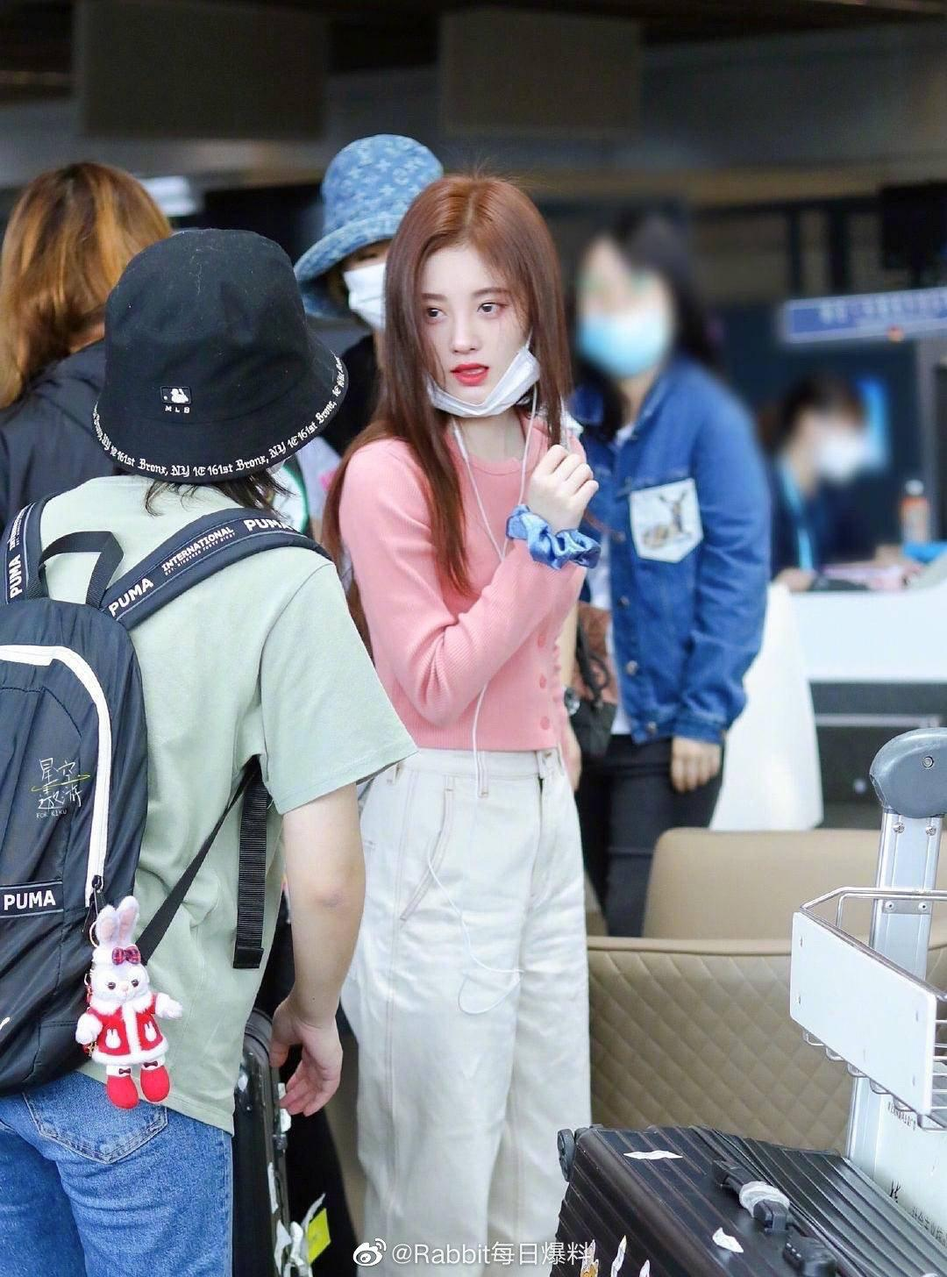OK: (342, 218, 438, 328), (576, 262, 661, 377), (808, 416, 863, 481)
WRONG: (415, 275, 530, 417)
